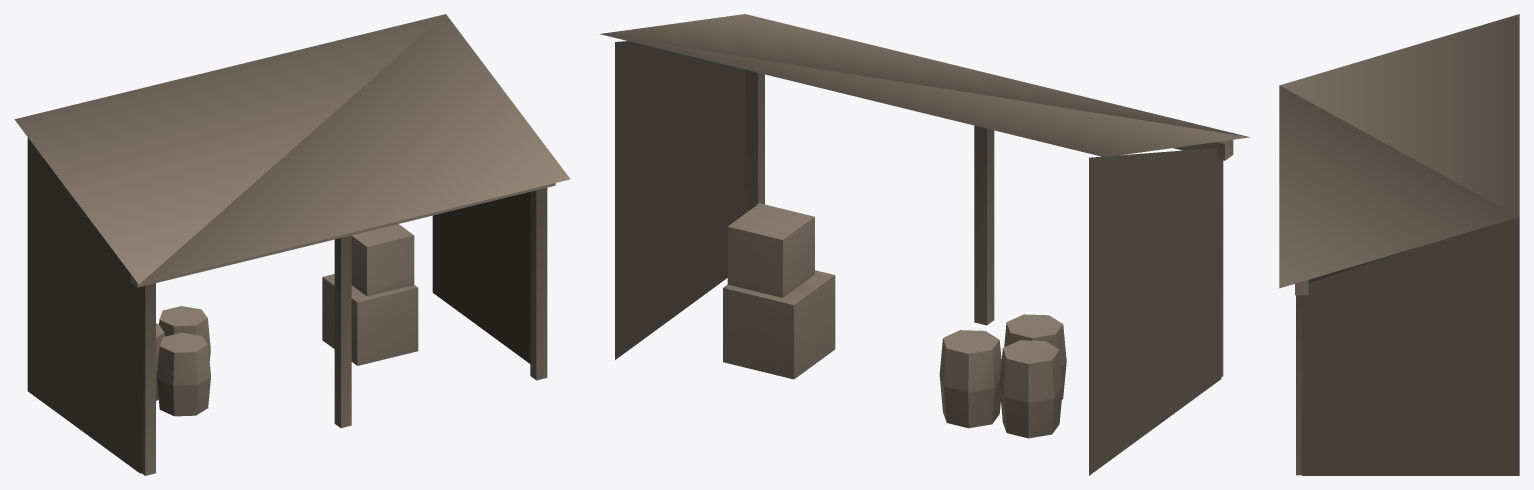
File: sg_leanto.glb
3 views of the same model, side by side, from view 1: azimuth 30°, elevation 25°; view 2: azimuth 150°, elevation 25°; view 3: azimuth 270°, elevation 25° (orthographic). The views are drawn at different scales.
Visible parts, largest first — view 1: sg_leanto_SG_Joinery; view 2: sg_leanto_SG_Joinery; view 3: sg_leanto_SG_Joinery.
Part boxes in pixels (box(x1,y1,x2,y2)): sg_leanto_SG_Joinery: box(14, 14, 570, 475); sg_leanto_SG_Joinery: box(600, 14, 1249, 475); sg_leanto_SG_Joinery: box(1279, 14, 1519, 475).
Bounding box in the file's own units: 6.4 × 3.9 × 3.2.
